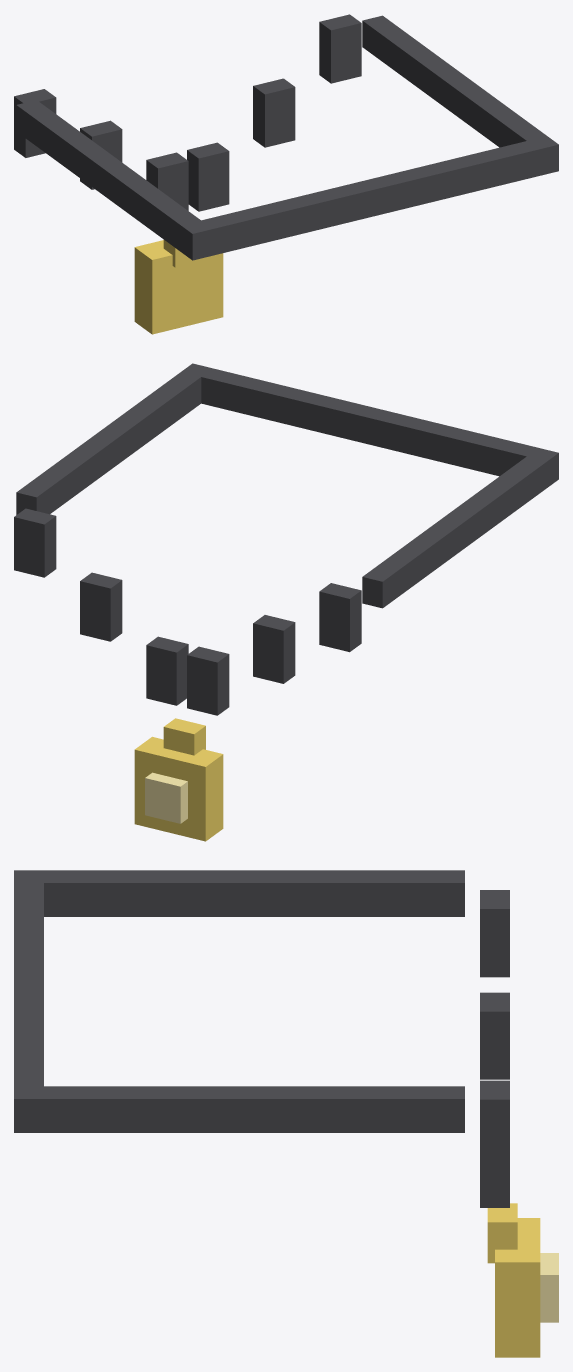
The model's file is colar_pingente.glb.
3 views of the same model, one above another, from view 1: azimuth 30°, elevation 25°; view 2: azimuth 150°, elevation 25°; view 3: azimuth 270°, elevation 25° (orthographic). The views are drawn at different scales.
Parts seen in each view (by area): view 1: colar_pingente; view 2: colar_pingente; view 3: colar_pingente.
Part boxes in pixels (x1,y1,x2,y2): colar_pingente: (14,14,558,334); colar_pingente: (14,363,558,841); colar_pingente: (14,870,558,1357).
Bounding box in the file's own units: 0.36 × 0.2575 × 0.3625.
